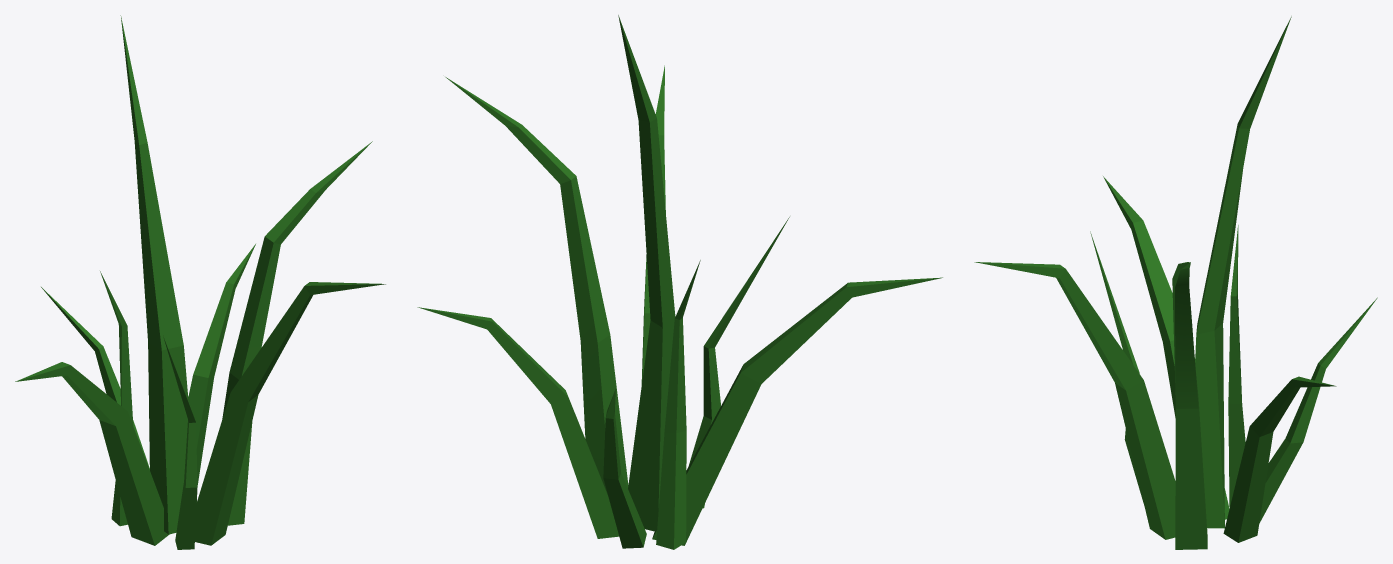
File: grass.fbx
The picture shows the model from 3 angles, left to right: view 1: azimuth 30°, elevation 25°; view 2: azimuth 150°, elevation 25°; view 3: azimuth 270°, elevation 25°; orthographic projection. The views are drawn at different scales.
Parts seen in each view (by area): view 1: Grass; view 2: Grass; view 3: Grass.
Part boxes in pixels (left/top/right/bottom): Grass: left=15, top=15, right=385, bottom=549; Grass: left=417, top=15, right=942, bottom=549; Grass: left=974, top=16, right=1377, bottom=549.
Bounding box in the file's own units: 116 × 135 × 97.63.
